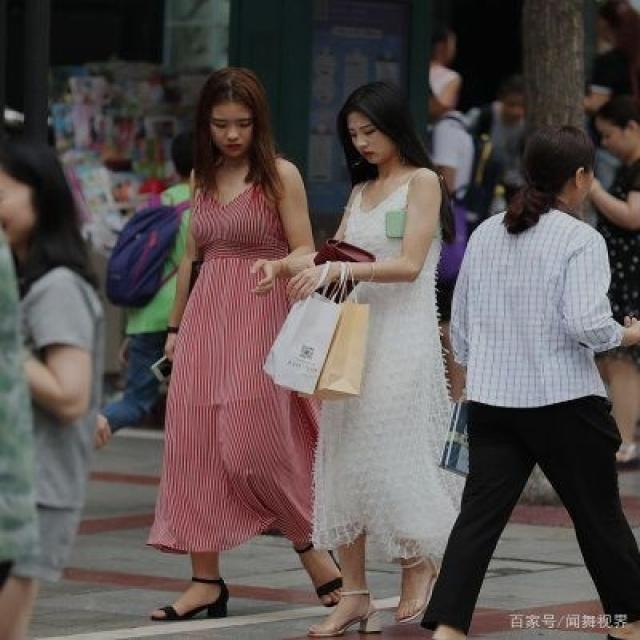non-fight: (144, 65, 343, 619), (438, 116, 640, 640), (294, 73, 441, 637)
